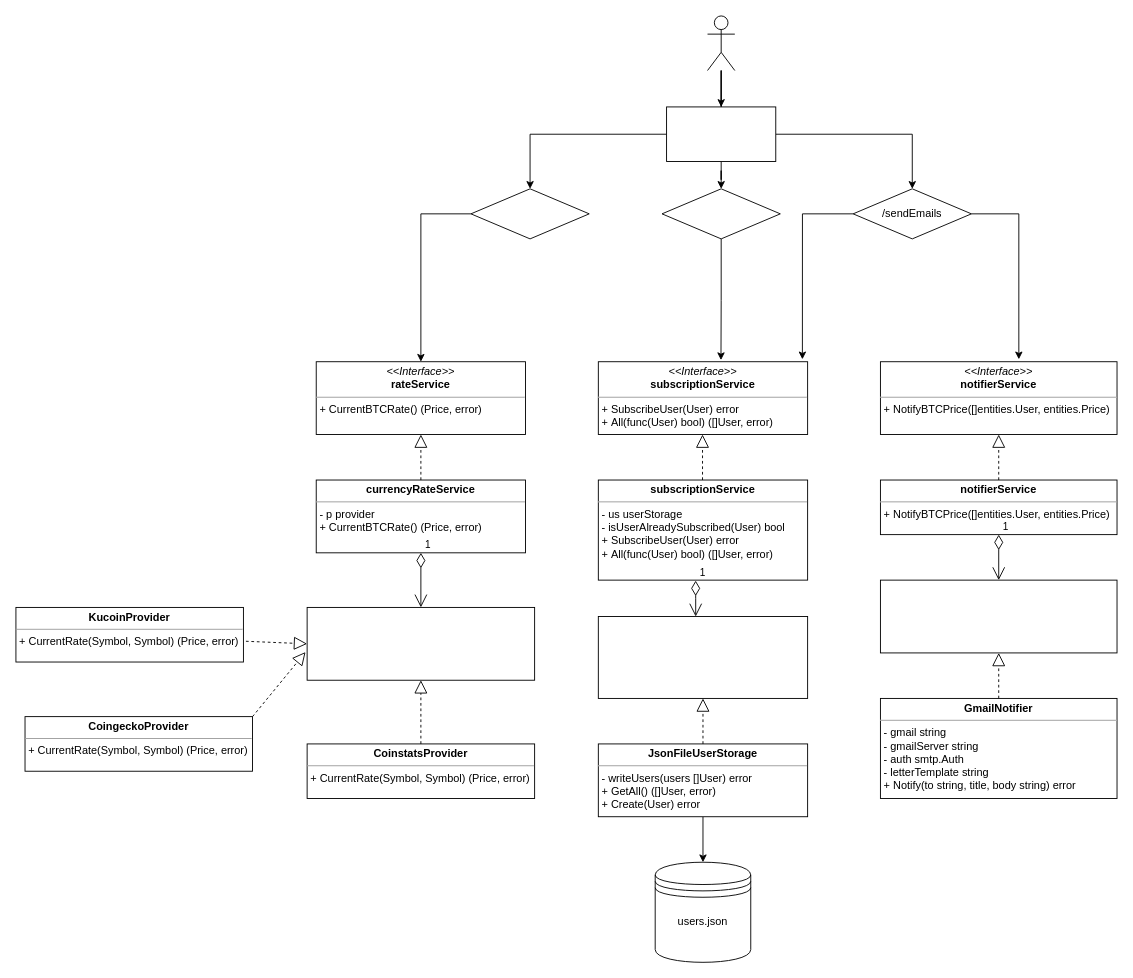
This 1133x978 diagram has some shape labels left out. The centre of each missing label's shape, as x and y in pixels:
/rate: (x=529, y=213)
/subscribe: (x=720, y=213)
<<Interface>> notifier + Notify(to string, title, body string) error: (x=998, y=616)
<<Interface>> provider + CurrentRate(Symbol, Symbol) (Price, error): (x=420, y=643)
<<Interface>> userStorage + GetAll() ([]User, error) + Create(User) error: (x=702, y=657)
Controller: (x=721, y=134)
